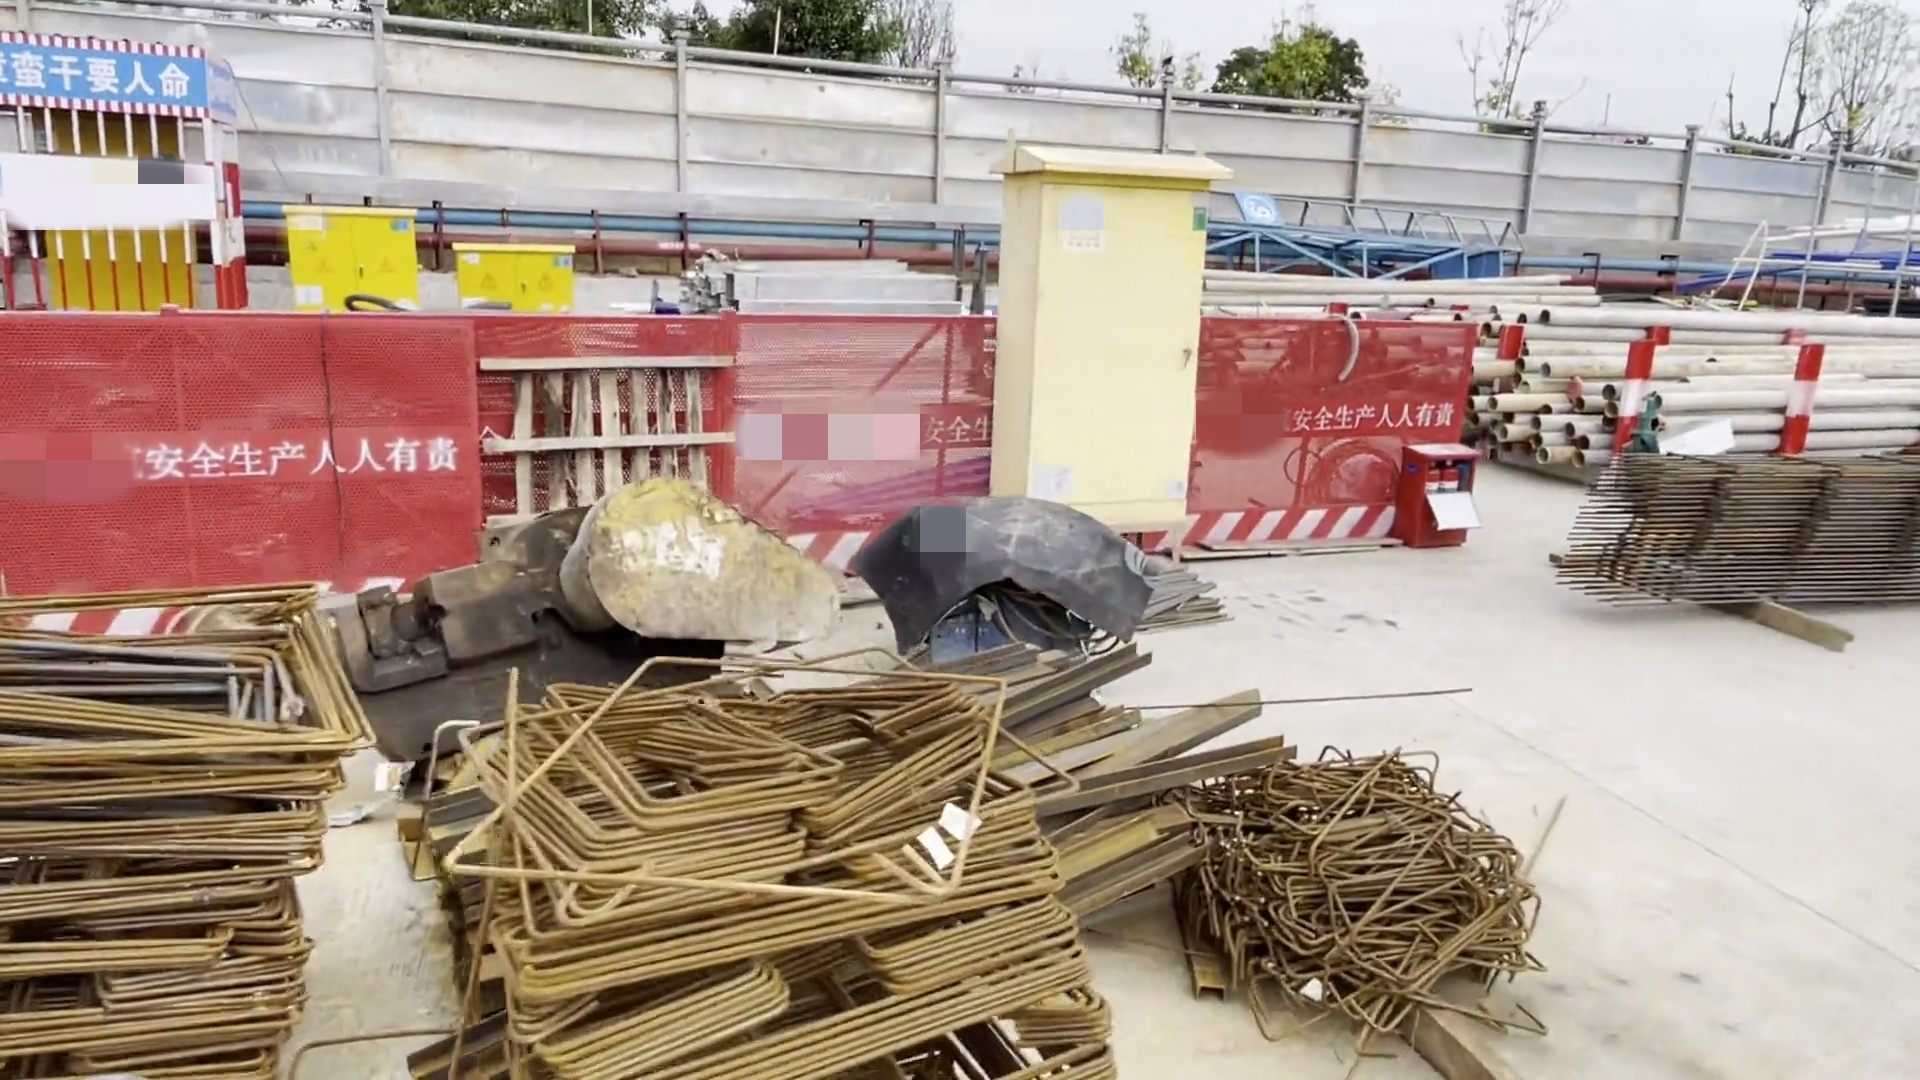ebox: (992, 149, 1236, 542), (32, 113, 200, 313), (282, 206, 407, 320), (458, 243, 585, 314)
fence: (477, 310, 1458, 539), (5, 311, 477, 599)
rebar: (1567, 440, 1920, 636), (1155, 570, 1222, 620)
slogan: (1, 36, 204, 111)
